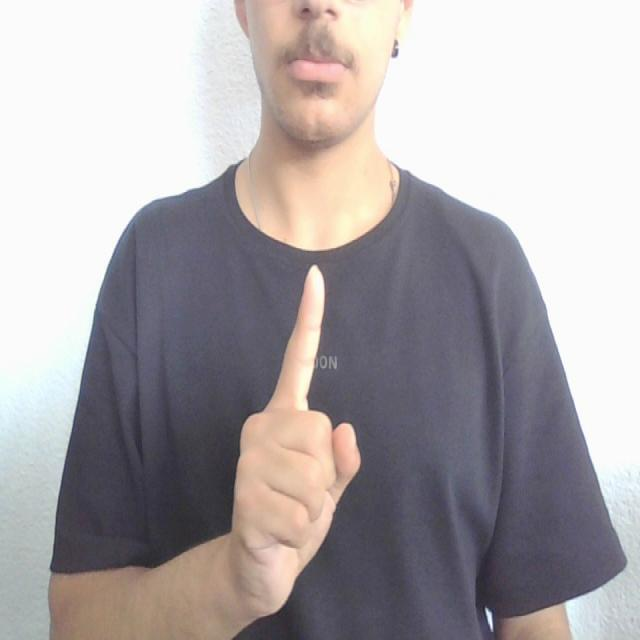Hayir: (210, 242, 380, 622)
